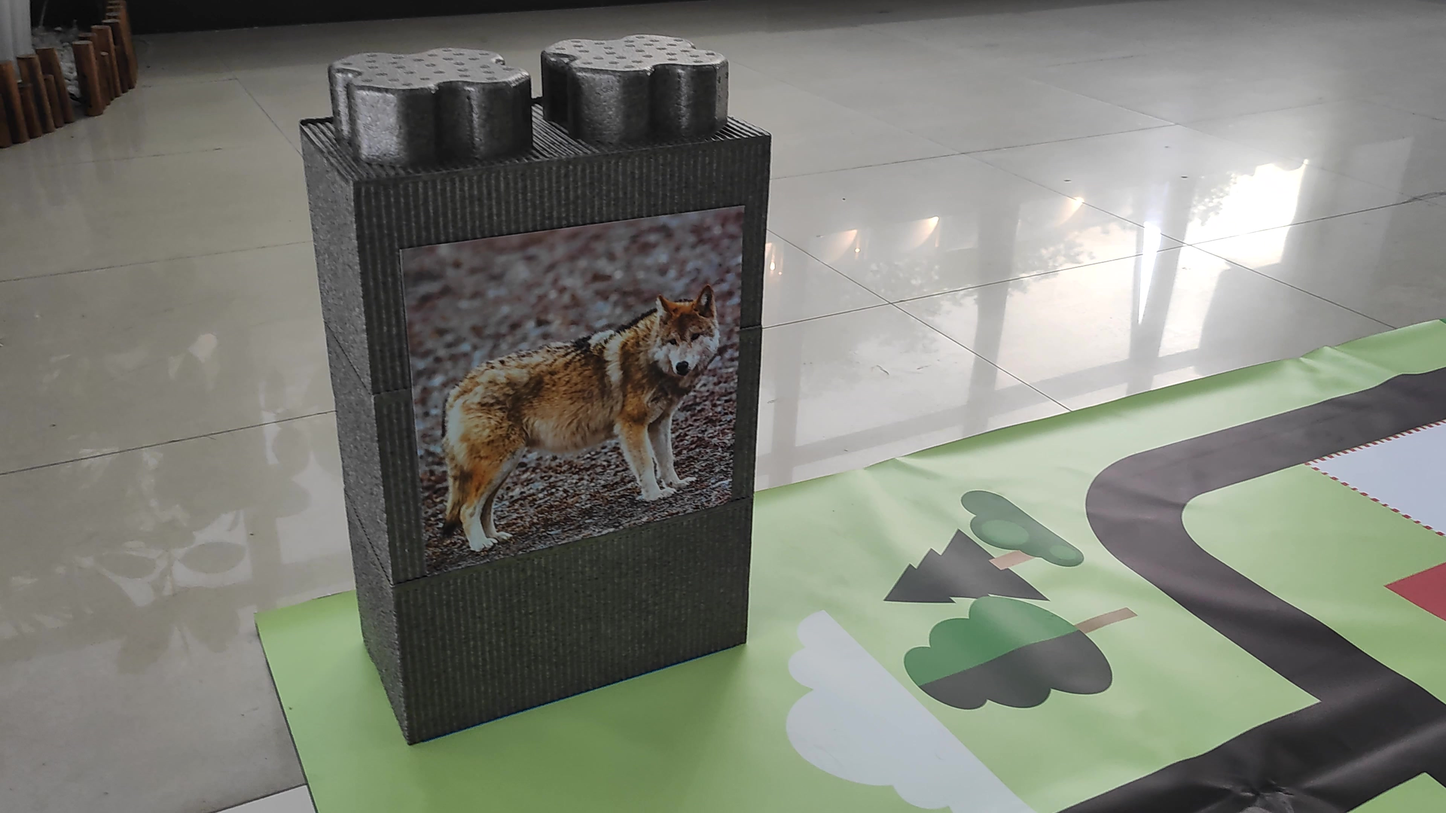wolf: (431, 242, 731, 568)
